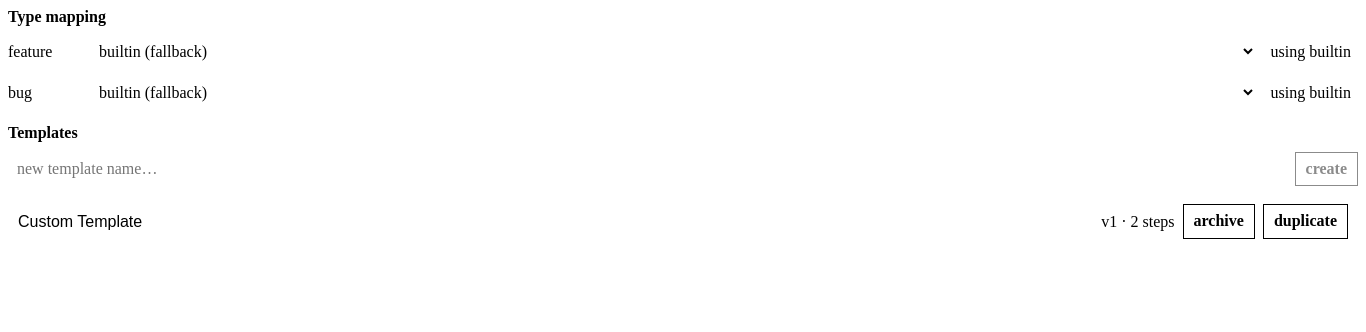
Scenario: WorkflowTemplatesSection CRUD › fetches the full definition when a template is opened
Click the button "Custom Template" at [80, 221], box x1=18 y1=213 x2=1093 y2=231
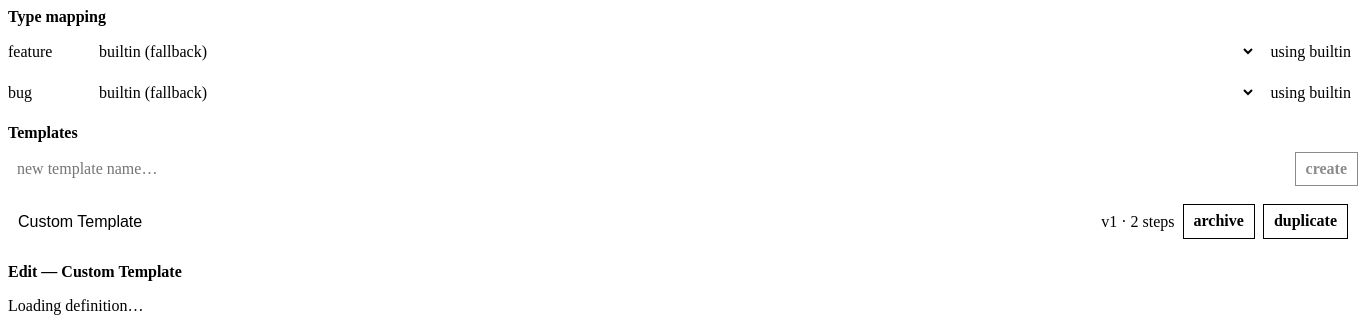
Result: the text "Loading definition…" is shown at x1=8 y1=297 x2=144 y2=314
